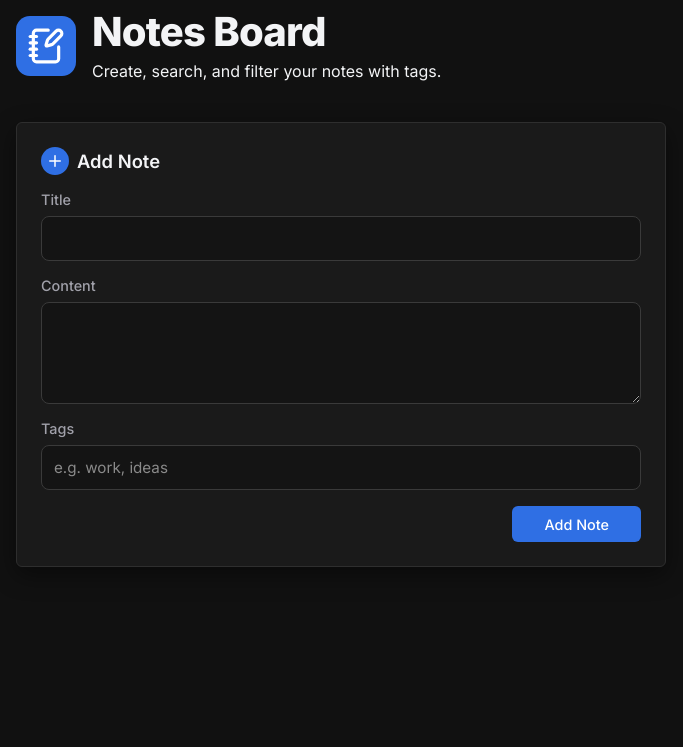
Test case: Add note with tags › shows success message after adding a note
The image size is (683, 747).
Type "test title" into the field labelled "Title" at (341, 238), box x1=41 y1=216 x2=641 y2=261
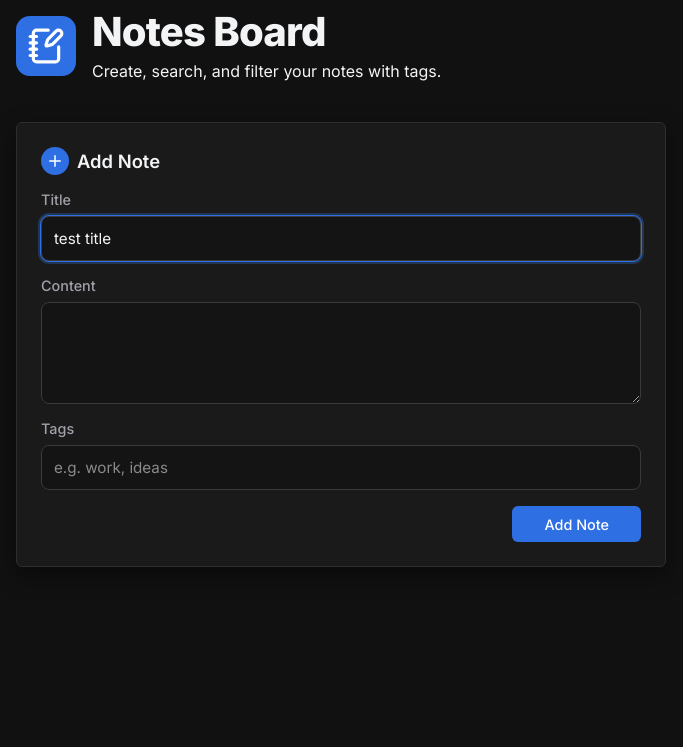
Type "test content" into the text box labelled "Content" at (341, 353), box x1=41 y1=302 x2=641 y2=404
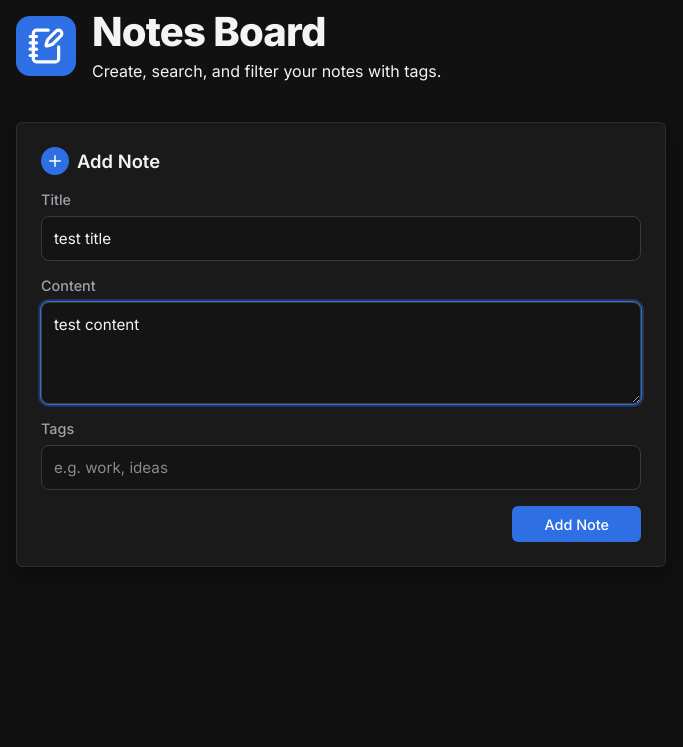
Type "test tag" into the field labelled "Tags" at (341, 468), box x1=41 y1=445 x2=641 y2=490
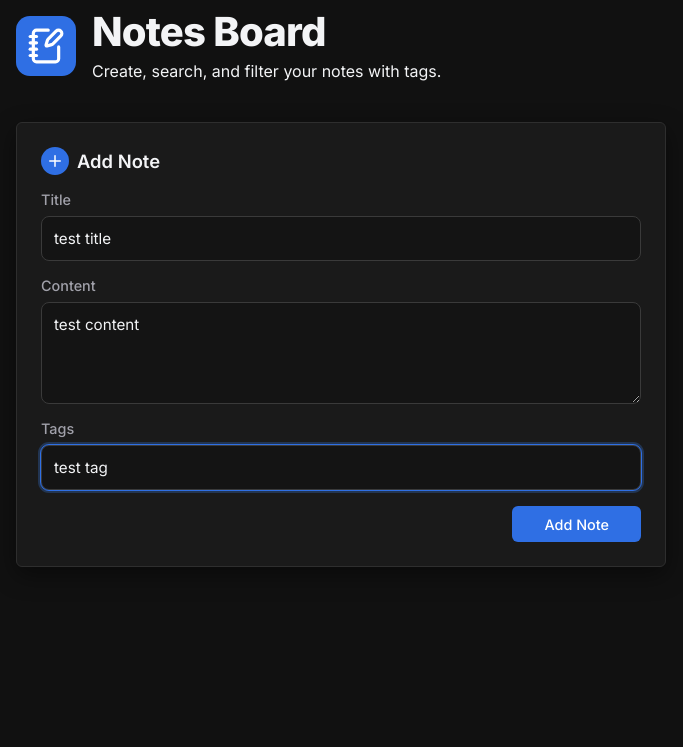
Click the button "Add Note" at (577, 524), box x1=512 y1=506 x2=641 y2=542
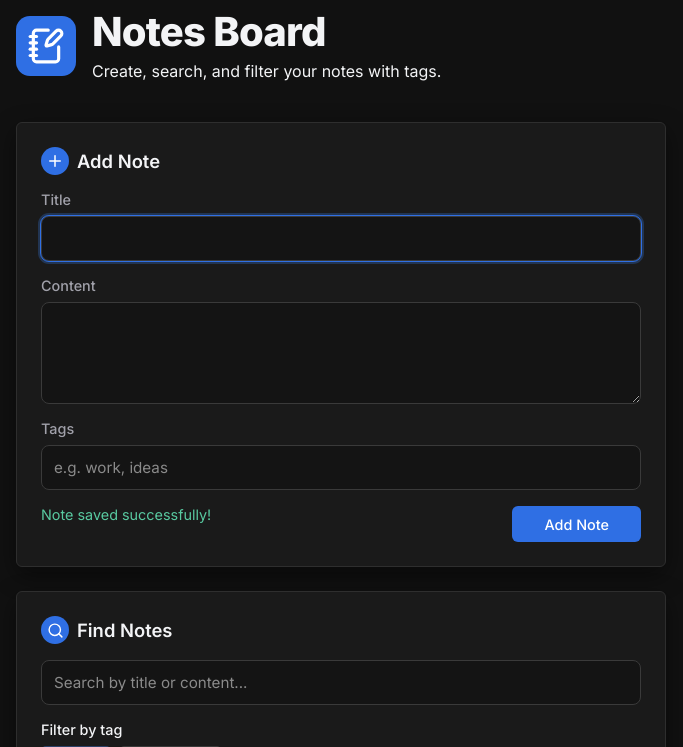
Expected: the text "Note saved successfully!" is shown, x1=41 y1=506 x2=211 y2=523
